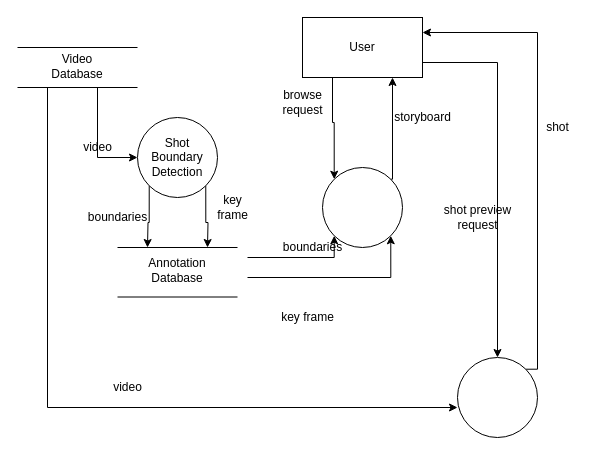
This 595x455 diagram has some shape labels left out. Here are the shapes that lost their labels. From the top down, the centre of each, then its label:
At point 362,207: "Storyboard Preview".
At point 497,397: "Shot Preview".
